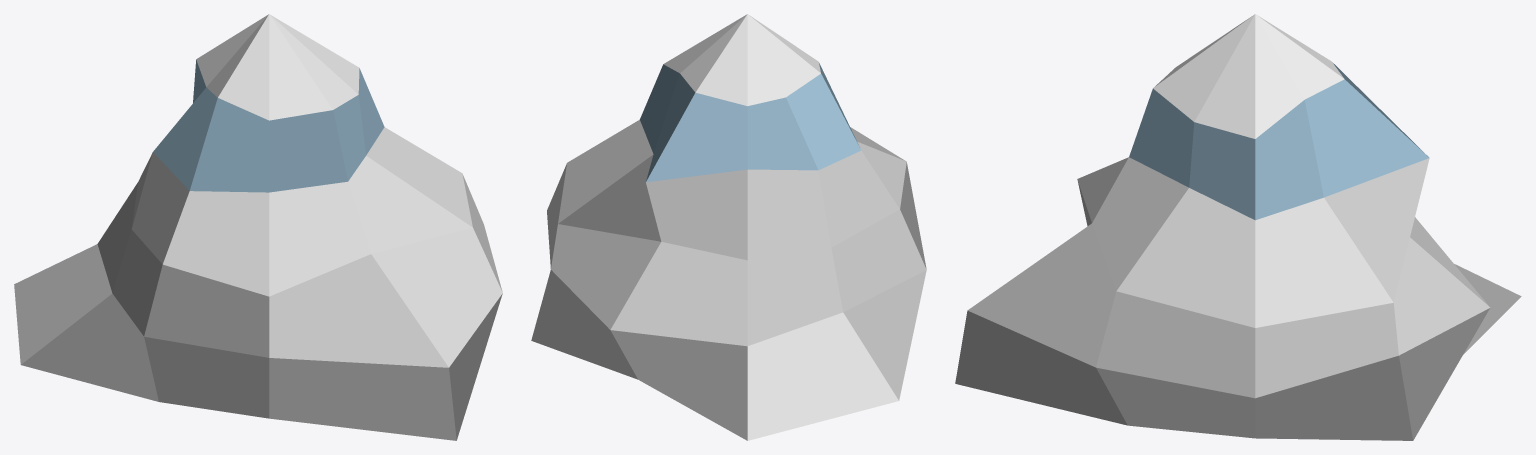
Rendered from Mountain6.fbx.
The picture shows the model from 3 angles, left to right: view 1: azimuth 30°, elevation 25°; view 2: azimuth 150°, elevation 25°; view 3: azimuth 270°, elevation 25°; orthographic projection. The views are drawn at different scales.
Parts seen in each view (by area): view 1: Mountain_07; view 2: Mountain_07; view 3: Mountain_07.
Boxes of the visible parts, x1,y1,x2,y2 form: Mountain_07: (14, 14, 502, 440); Mountain_07: (531, 14, 926, 440); Mountain_07: (955, 14, 1521, 440).
Bounding box in the file's own units: 1621 × 1226 × 1811.
